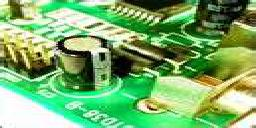Electrolytic-Capacitor: (54, 33, 118, 101)
